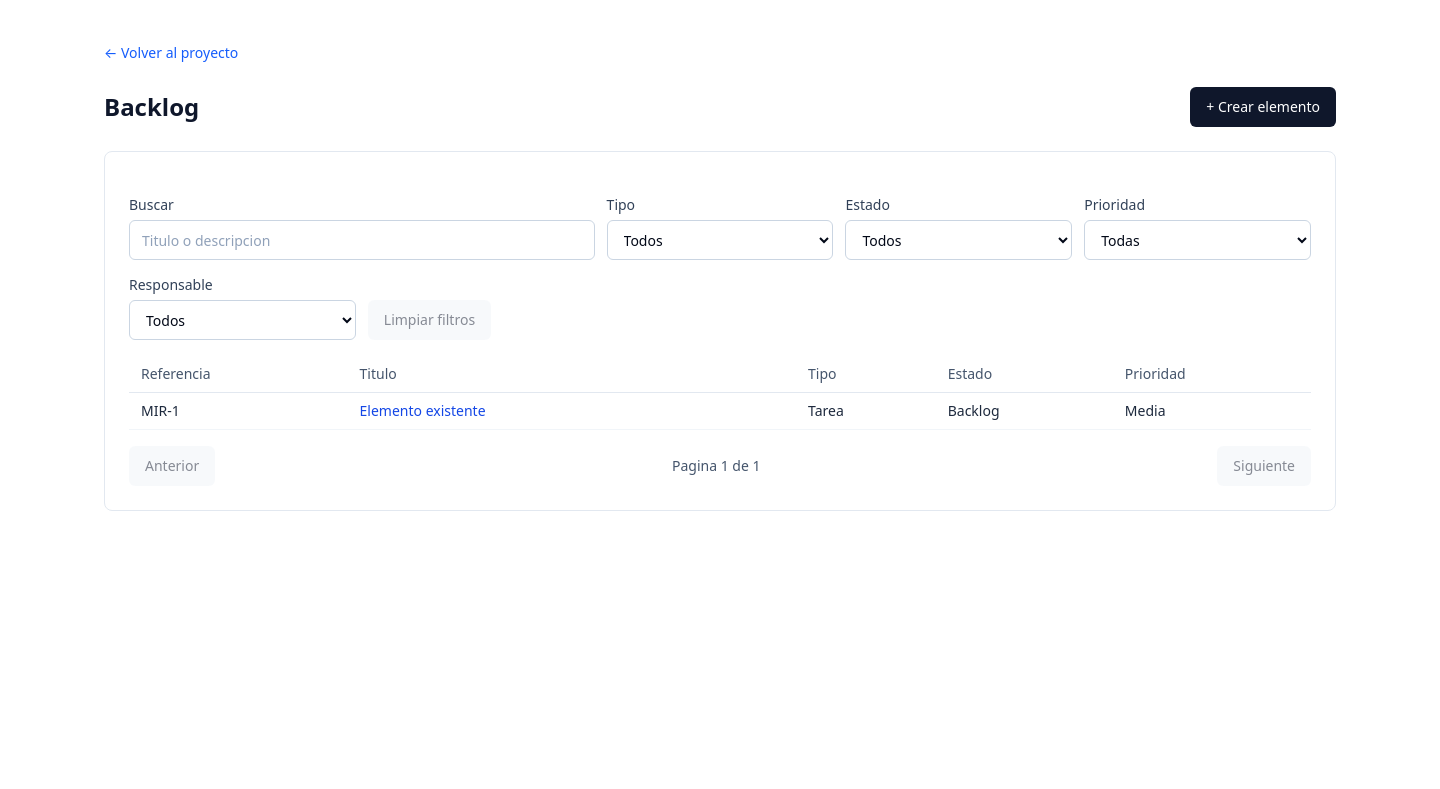
Scenario: ProjectBacklogPage › OWNER crea por POST y el nuevo item aparece sin recargar ni escribir referencia
The image size is (1440, 789).
Expected: the table is shown, [129,356,1311,430]
Click the button "+ Crear elemento".
click(1263, 107)  # box [1190,87,1336,127]
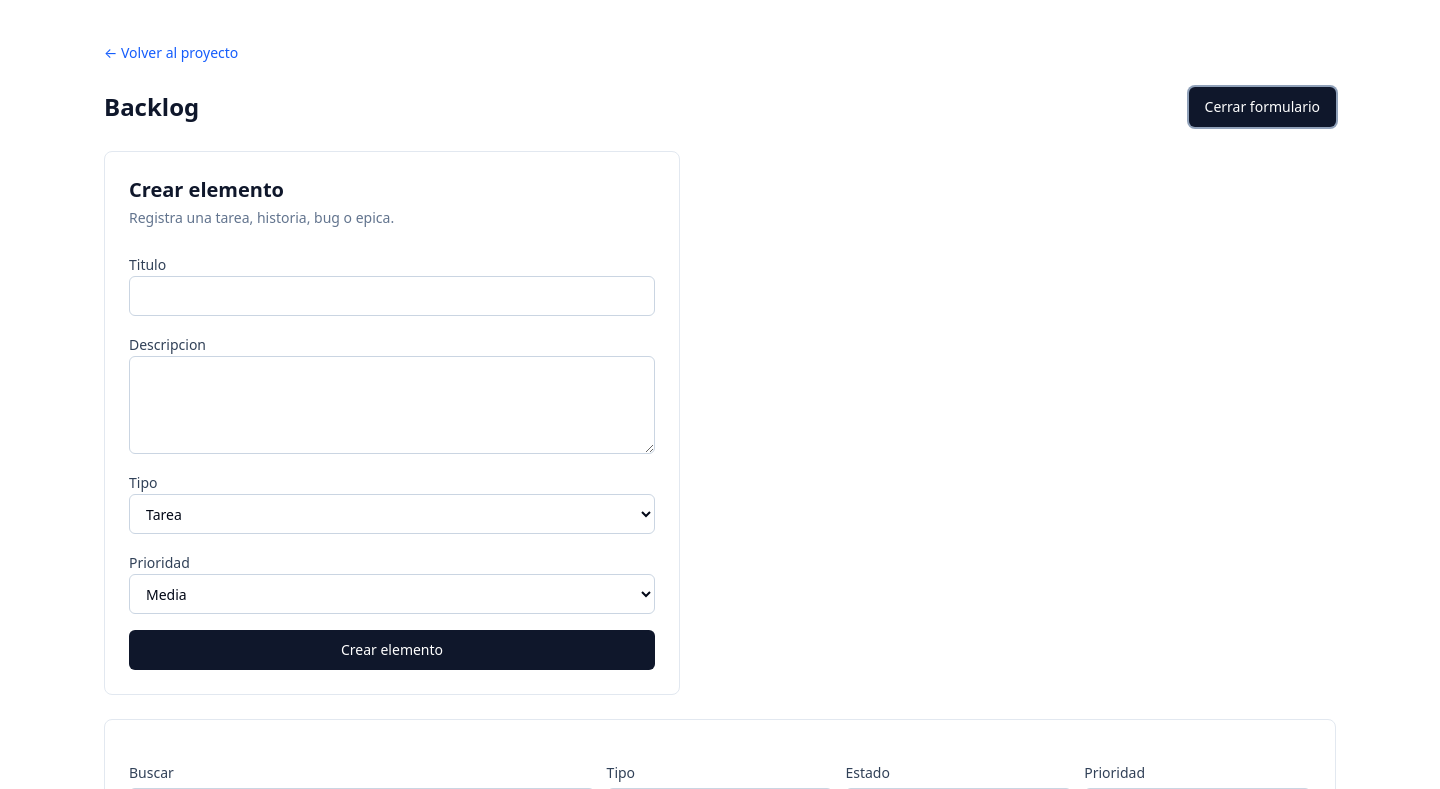
Type "Nuevo elemento del backlog" into the field labelled "Titulo".
click(392, 296); type("Nuevo elemento del backlog")  # box [129,276,655,316]
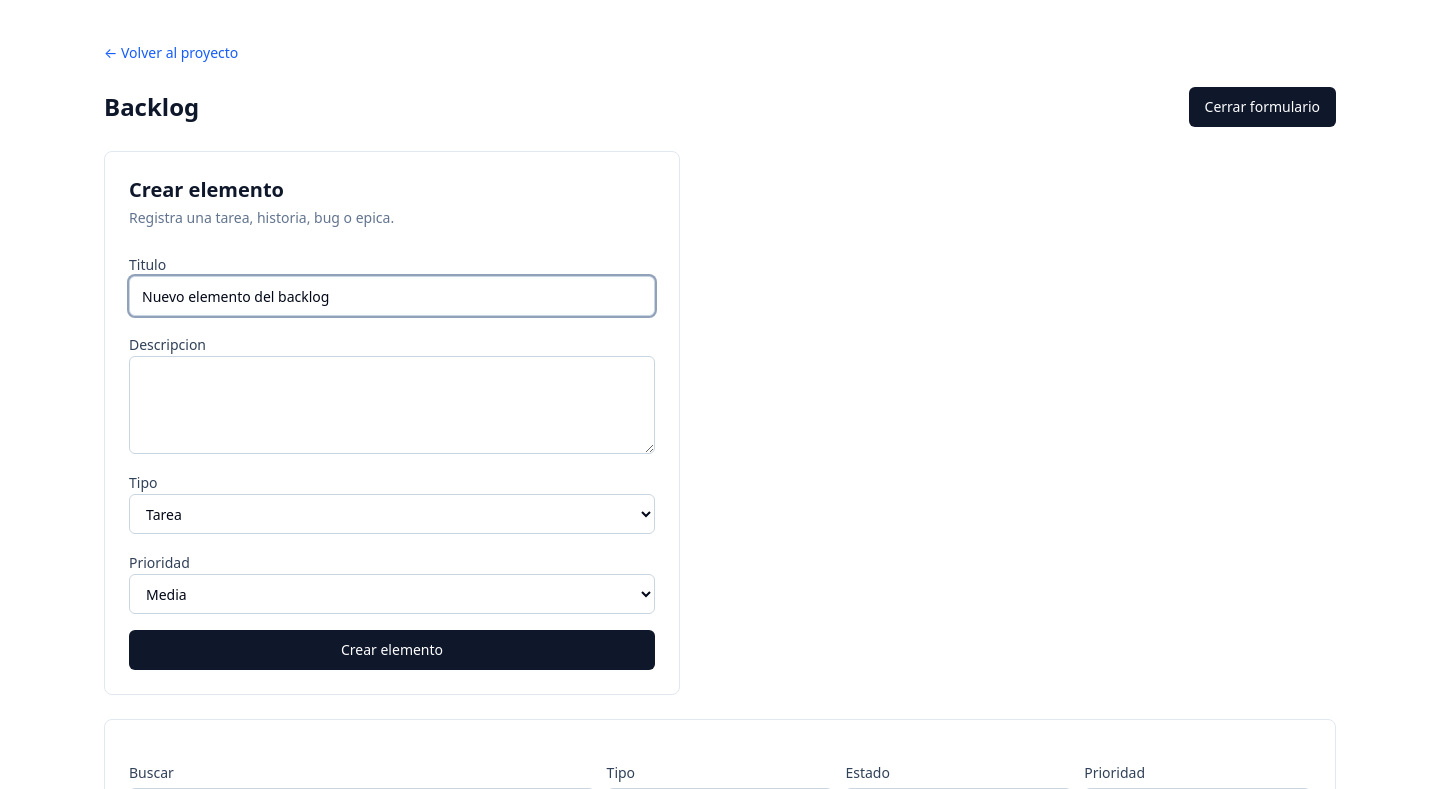
Type "Descripcion de la tarea" into the text box labelled "Descripcion".
click(392, 405); type("Descripcion de la tarea")  # box [129,356,655,454]
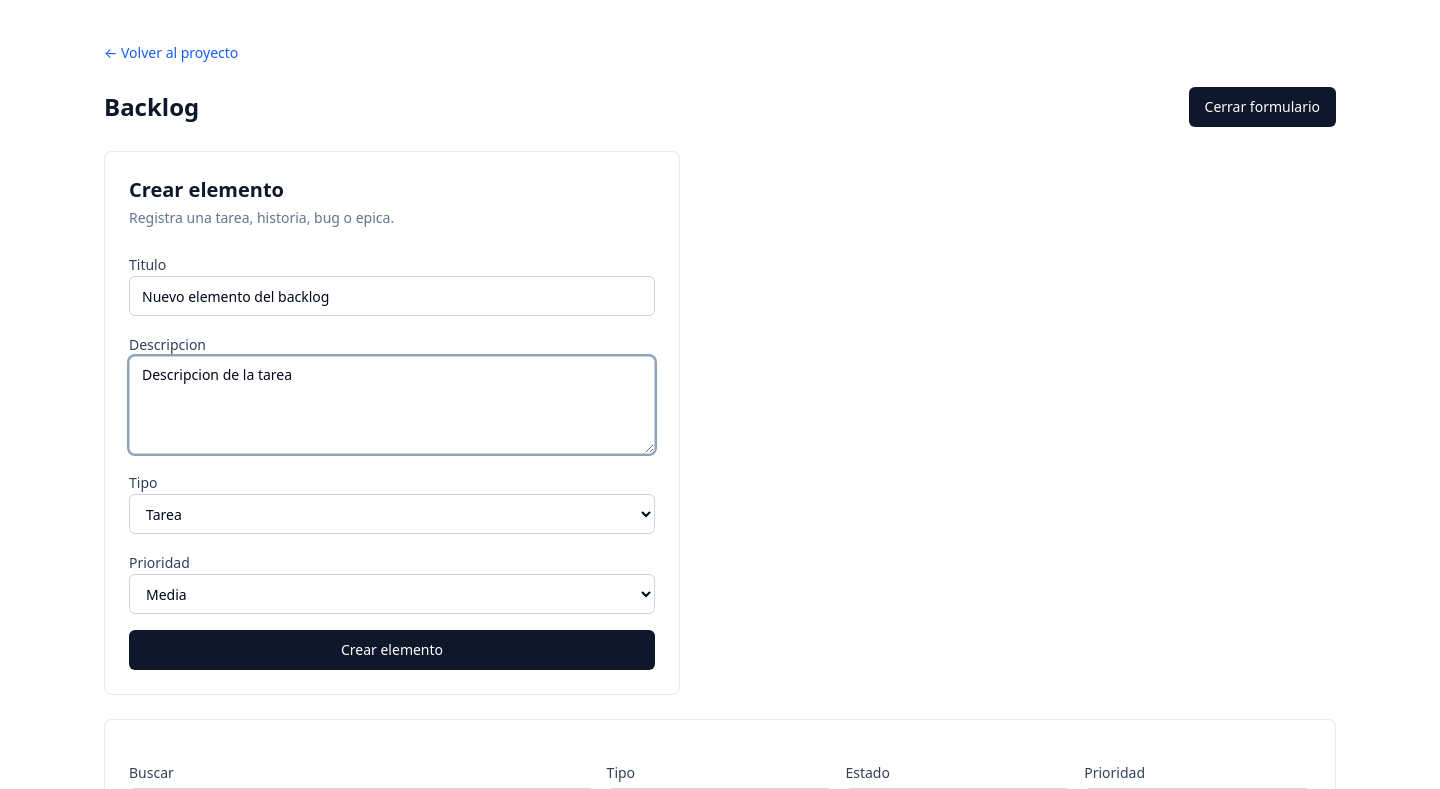
Click the button "Crear elemento".
click(392, 650)  # box [129,630,655,670]
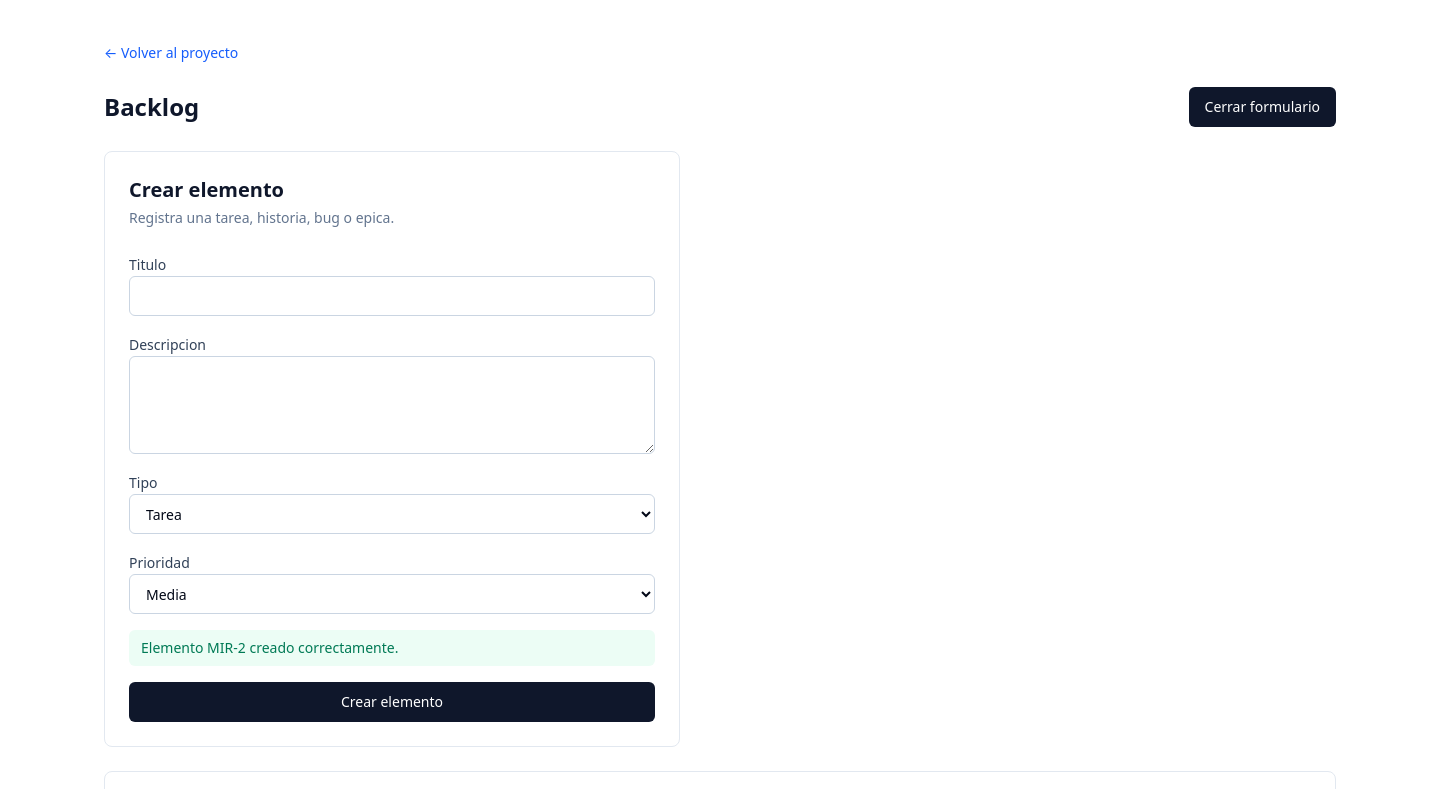
Now the text "Elemento MIR-2 creado correctamente." is shown, box [129,630,655,666]
Now the field labelled "Titulo" is empty, box [129,276,655,316]
